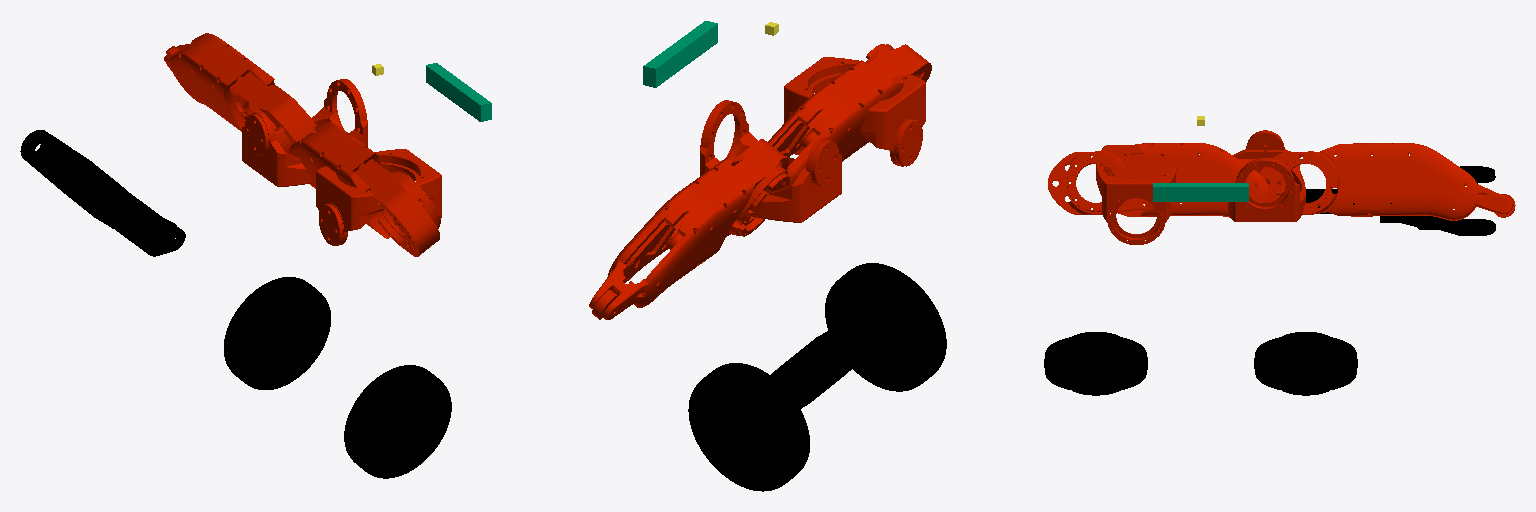
The robot description file, URDF, robot "ambula_bot":
<?xml version="1.0" ?>
<!-- =================================================================================== -->
<!-- |    This document was autogenerated by xacro from ambula.urdf.xacro              | -->
<!-- |    EDITING THIS FILE BY HAND IS NOT RECOMMENDED                                 | -->
<!-- =================================================================================== -->
<robot name="ambula_bot">
  <!-- <link name="world" /> -->
  <link name="base_footprint"/>
  <link name="base_link">
    <visual>
      <origin rpy="-1.5707963267948966 0 0" xyz="0 0 0"/>
      <geometry>
        <mesh filename="package://ambula_description/meshs/base.stl" scale="1 1 1"/>
      </geometry>
      <material name="black">
        <color rgba="0.0 0.0 0.0 1.0"/>
      </material>
    </visual>
    <collision>
      <origin rpy="-1.5707963267948966 0 0" xyz="0 0 0"/>
      <geometry>
        <mesh filename="package://ambula_description/meshs/base.stl" scale="1 1 1"/>
      </geometry>
    </collision>
    <inertial>
      <origin rpy="0 0 0" xyz="0 0 -0.07"/>
      <mass value="7.0"/>
      <inertia ixx="0.08219166666666668" ixy="0.0" ixz="0.0" iyy="0.12559166666666666" iyz="0.0" izz="0.11631666666666665"/>
    </inertial>
  </link>
  <gazebo reference="base_link">
    <visual>
      <material>
        <ambient>0.8392 0.6314 0.0 1.0</ambient>
        <diffuse>0.8392 0.6314 0.0 1.0</diffuse>
        <specular>0.99 0.99 0.99 1.0</specular>
        <emissive>0.0 0.0 0.0 0.0</emissive>
      </material>
    </visual>
  </gazebo>
  <joint name="base_to_footprint" type="fixed">
    <parent link="base_footprint"/>
    <child link="base_link"/>
    <origin rpy="0 0 0" xyz="0 0 0.5"/>
  </joint>
  <link name="left_waist_link">
    <visual>
      <origin rpy="-1.5707963267948966 0 0" xyz="0 0 0"/>
      <geometry>
        <mesh filename="package://ambula_description/meshs/left_waist.stl" scale="1 1 1"/>
      </geometry>
      <material name="orange">
        <color rgba="0.8 0.15 0.0 1.0"/>
      </material>
    </visual>
    <collision>
      <origin rpy="-1.5707963267948966 0 0" xyz="0 0 0"/>
      <geometry>
        <mesh filename="package://ambula_description/meshs/left_waist.stl" scale="1 1 1"/>
      </geometry>
    </collision>
    <inertial>
      <origin rpy="0 0 0" xyz="0 0 0"/>
      <mass value="1.0"/>
      <inertia ixx="0.001666666666666667" ixy="0.0" ixz="0.0" iyy="0.002241666666666667" iyz="0.0" izz="0.002241666666666667"/>
    </inertial>
  </link>
  <joint name="left_waist_joint" type="revolute">
    <axis xyz="1 0 0"/>
    <origin xyz="-0.05 0.0875 -0.1165"/>
    <parent link="base_link"/>
    <child link="left_waist_link"/>
    <limit effort="1000" lower="-0.7853981633974483" upper="0.7853981633974483" velocity="10"/>
    <dynamics damping="5.0" friction="3.0"/>
  </joint>
  <link name="right_waist_link">
    <visual>
      <origin rpy="-1.5707963267948966 0 0" xyz="0 0 0"/>
      <geometry>
        <mesh filename="package://ambula_description/meshs/right_waist.stl" scale="1 1 1"/>
      </geometry>
      <material name="orange">
        <color rgba="0.8 0.15 0.0 1.0"/>
      </material>
    </visual>
    <collision>
      <origin rpy="-1.5707963267948966 0 0" xyz="0 0 0"/>
      <geometry>
        <mesh filename="package://ambula_description/meshs/right_waist.stl" scale="1 1 1"/>
      </geometry>
    </collision>
    <inertial>
      <origin rpy="0 0 0" xyz="0 0 0"/>
      <mass value="1.0"/>
      <inertia ixx="0.001666666666666667" ixy="0.0" ixz="0.0" iyy="0.002241666666666667" iyz="0.0" izz="0.002241666666666667"/>
    </inertial>
  </link>
  <joint name="right_waist_joint" type="revolute">
    <axis xyz="1 0 0"/>
    <origin xyz="-0.05 -0.0875 -0.1165"/>
    <parent link="base_link"/>
    <child link="right_waist_link"/>
    <limit effort="1000" lower="-0.7853981633974483" upper="0.7853981633974483" velocity="10"/>
    <dynamics damping="5.0" friction="3.0"/>
  </joint>
  <link name="left_hip_link">
    <visual>
      <origin rpy="-1.5707963267948966 0 0" xyz="0 0 0"/>
      <geometry>
        <mesh filename="package://ambula_description/meshs/left_hip.stl" scale="1 1 1"/>
      </geometry>
      <material name="orange">
        <color rgba="0.8 0.15 0.0 1.0"/>
      </material>
    </visual>
    <collision>
      <origin rpy="-1.5707963267948966 0 0" xyz="0 0 0"/>
      <geometry>
        <mesh filename="package://ambula_description/meshs/left_hip.stl" scale="1 1 1"/>
      </geometry>
    </collision>
    <inertial>
      <origin rpy="0 0 0" xyz="0 0 0.11560000000000002"/>
      <mass value="1.0"/>
      <inertia ixx="0.009933333333333336" ixy="0.0" ixz="0.0" iyy="0.010466666666666668" iyz="0.0" izz="0.0011333333333333334"/>
    </inertial>
  </link>
  <joint name="left_hip_joint" type="revolute">
    <axis xyz="0 -1 0"/>
    <origin xyz="0.0 0.055 0.0"/>
    <parent link="left_waist_link"/>
    <child link="left_hip_link"/>
    <limit effort="1000" lower="0.9599310885968811" upper="3.141592653589793" velocity="10"/>
    <dynamics damping="5.0" friction="3.0"/>
  </joint>
  <link name="right_hip_link">
    <visual>
      <origin rpy="-1.5707963267948966 0 0" xyz="0 0 0"/>
      <geometry>
        <mesh filename="package://ambula_description/meshs/right_hip.stl" scale="1 1 1"/>
      </geometry>
      <material name="orange">
        <color rgba="0.8 0.15 0.0 1.0"/>
      </material>
    </visual>
    <collision>
      <origin rpy="-1.5707963267948966 0 0" xyz="0 0 0"/>
      <geometry>
        <mesh filename="package://ambula_description/meshs/right_hip.stl" scale="1 1 1"/>
      </geometry>
    </collision>
    <inertial>
      <origin rpy="0 0 0" xyz="0 0 0.11560000000000002"/>
      <mass value="1.0"/>
      <inertia ixx="0.009933333333333336" ixy="0.0" ixz="0.0" iyy="0.010466666666666668" iyz="0.0" izz="0.0011333333333333334"/>
    </inertial>
  </link>
  <joint name="right_hip_joint" type="revolute">
    <axis xyz="0 -1 0"/>
    <origin xyz="0.0 -0.055 0.0"/>
    <parent link="right_waist_link"/>
    <child link="right_hip_link"/>
    <limit effort="1000" lower="0.9599310885968811" upper="3.141592653589793" velocity="10"/>
    <dynamics damping="5.0" friction="3.0"/>
  </joint>
  <link name="left_knee_link">
    <visual>
      <origin rpy="-1.5707963267948966 0 0" xyz="0 0 0"/>
      <geometry>
        <mesh filename="package://ambula_description/meshs/left_knee.stl" scale="1 1 1"/>
      </geometry>
      <material name="black">
        <color rgba="0.0 0.0 0.0 1.0"/>
      </material>
    </visual>
    <collision>
      <origin rpy="-1.5707963267948966 0 0" xyz="0 0 0"/>
      <geometry>
        <mesh filename="package://ambula_description/meshs/left_knee.stl" scale="1 1 1"/>
      </geometry>
    </collision>
    <inertial>
      <origin rpy="0 0 0" xyz="0 0 0.10640000000000001"/>
      <mass value="0.5"/>
      <inertia ixx="0.0035333333333333336" ixy="0.0" ixz="0.0" iyy="0.0033708333333333338" iyz="0.0" izz="0.00037083333333333337"/>
    </inertial>
  </link>
  <joint name="left_knee_joint" type="revolute">
    <axis xyz="0 -1 0"/>
    <origin xyz="-0.015 0.0 0.201"/>
    <parent link="left_hip_link"/>
    <child link="left_knee_link"/>
    <limit effort="1000" lower="1.2217304763960306" upper="2.530727415391778" velocity="10"/>
    <dynamics damping="5.0" friction="3.0"/>
  </joint>
  <link name="right_knee_link">
    <visual>
      <origin rpy="-1.5707963267948966 0 0" xyz="0 0 0"/>
      <geometry>
        <mesh filename="package://ambula_description/meshs/right_knee.stl" scale="1 1 1"/>
      </geometry>
      <material name="black">
        <color rgba="0.0 0.0 0.0 1.0"/>
      </material>
    </visual>
    <collision>
      <origin rpy="-1.5707963267948966 0 0" xyz="0 0 0"/>
      <geometry>
        <mesh filename="package://ambula_description/meshs/right_knee.stl" scale="1 1 1"/>
      </geometry>
    </collision>
    <inertial>
      <origin rpy="0 0 0" xyz="0 0 0.10640000000000001"/>
      <mass value="0.5"/>
      <inertia ixx="0.0035333333333333336" ixy="0.0" ixz="0.0" iyy="0.0033708333333333338" iyz="0.0" izz="0.00037083333333333337"/>
    </inertial>
  </link>
  <joint name="right_knee_joint" type="revolute">
    <axis xyz="0 -1 0"/>
    <origin xyz="-0.015 0.0 0.201"/>
    <parent link="right_hip_link"/>
    <child link="right_knee_link"/>
    <limit effort="1000" lower="1.2217304763960306" upper="2.530727415391778" velocity="10"/>
    <dynamics damping="5.0" friction="3.0"/>
  </joint>
  <link name="left_wheel_link">
    <visual>
      <origin rpy="-1.5707963267948966 0 0" xyz="0 0 0"/>
      <geometry>
        <mesh filename="package://ambula_description/meshs/wheel.stl" scale="1 1 1"/>
      </geometry>
      <material name="black">
        <color rgba="0.0 0.0 0.0 1.0"/>
      </material>
    </visual>
    <collision>
      <origin rpy="-1.5707963267948966 0 0" xyz="0 0 0"/>
      <geometry>
        <mesh filename="package://ambula_description/meshs/wheel.stl" scale="1 1 1"/>
      </geometry>
    </collision>
    <inertial>
      <origin rpy="0 0 0" xyz="0 0 0"/>
      <mass value="1.6"/>
      <inertia ixx="0.002293333333333334" ixy="0" ixz="0" iyy="0.003920000000000001" iyz="0" izz="0.002293333333333334"/>
    </inertial>
  </link>
  <joint name="left_wheel_joint" type="continuous">
    <axis xyz="0 1 0"/>
    <parent link="left_knee_link"/>
    <child link="left_wheel_link"/>
    <origin rpy="0 0 0" xyz="0.0 0.0 0.235"/>
    <dynamics damping="0.01" friction="0.0"/>
  </joint>
  <link name="right_wheel_link">
    <visual>
      <origin rpy="-1.5707963267948966 0 0" xyz="0 0 0"/>
      <geometry>
        <mesh filename="package://ambula_description/meshs/wheel.stl" scale="1 1 1"/>
      </geometry>
      <material name="black">
        <color rgba="0.0 0.0 0.0 1.0"/>
      </material>
    </visual>
    <collision>
      <origin rpy="-1.5707963267948966 0 0" xyz="0 0 0"/>
      <geometry>
        <mesh filename="package://ambula_description/meshs/wheel.stl" scale="1 1 1"/>
      </geometry>
    </collision>
    <inertial>
      <origin rpy="0 0 0" xyz="0 0 0"/>
      <mass value="1.6"/>
      <inertia ixx="0.002293333333333334" ixy="0" ixz="0" iyy="0.003920000000000001" iyz="0" izz="0.002293333333333334"/>
    </inertial>
  </link>
  <joint name="right_wheel_joint" type="continuous">
    <axis xyz="0 1 0"/>
    <parent link="right_knee_link"/>
    <child link="right_wheel_link"/>
    <origin rpy="0 0 0" xyz="0.0 0.0 0.235"/>
    <dynamics damping="0.01" friction="0.0"/>
  </joint>
  <link name="camera_link">
    <visual>
      <origin rpy="0 0 0" xyz="0 0 0"/>
      <geometry>
        <box size="0.015 0.130 0.022"/>
      </geometry>
    </visual>
    <collision>
      <origin rpy="0 0 0" xyz="0 0 0"/>
      <geometry>
        <box size="0.015 0.130 0.022"/>
      </geometry>
    </collision>
    <inertial>
      <origin rpy="0 0 0" xyz="0 0 0"/>
      <mass value="0.035"/>
      <inertia ixx="0.001" ixy="0" ixz="0" iyy="0.001" iyz="0" izz="0.001"/>
    </inertial>
  </link>
  <joint name="camera_to_base_link" type="fixed">
    <parent link="base_link"/>
    <child link="camera_link"/>
    <origin rpy="0 0 0" xyz="0.11 0 -0.055"/>
  </joint>
  <gazebo reference="camera_link">
    <sensor name="depth_camera" type="rgbd_camera">
      <always_on>true</always_on>
      <visualize>true</visualize>
      <update_rate>15</update_rate>
      <topic>depth_camera</topic>
      <gz_frame_id>camera_link</gz_frame_id>
      <camera>
        <horizontal_fov>1.047198</horizontal_fov>
        <image>
          <width>640</width>
          <height>480</height>
        </image>
        <clip>
          <near>0.05</near>
          <far>3.0</far>
        </clip>
        <distortion>
          <!-- Brown–Conrady -->
          <k1>0.0</k1>
          <k2>0.0</k2>
          <k3>0.0</k3>
          <p1>0.0</p1>
          <p2>0.0</p2>
          <center>0.5 0.5</center>
          <!-- principal point (normalized) -->
        </distortion>
      </camera>
    </sensor>
  </gazebo>
  <link name="imu_base_link">
    <visual>
      <origin rpy="0 0 0" xyz="0 0 0"/>
      <geometry>
        <box size="0.01 0.01 0.01"/>
      </geometry>
    </visual>
    <collision>
      <origin rpy="0 0 0" xyz="0 0 0"/>
      <geometry>
        <box size="0.01 0.01 0.01"/>
      </geometry>
    </collision>
    <inertial>
      <origin rpy="0 0 0" xyz="0 0 0"/>
      <mass value="0.035"/>
      <inertia ixx="0.001" ixy="0" ixz="0" iyy="0.001" iyz="0" izz="0.001"/>
    </inertial>
  </link>
  <joint name="imu_to_base" type="fixed">
    <parent link="base_link"/>
    <child link="imu_base_link"/>
    <origin rpy="0 0 0" xyz="0 0 0"/>
  </joint>
  <gazebo reference="imu_base_link">
    <sensor name="imu_sensor" type="imu">
      <pose relative_to="base_link">0 0 0 0 0 0</pose>
      <always_on>1</always_on>
      <update_rate>1000.0</update_rate>
      <topic>imu</topic>
      <gz_frame_id>imu_base_link</gz_frame_id>
    </sensor>
    <sensor name="navsat" type="navsat">
      <always_on>1</always_on>
      <update_rate>1</update_rate>
      <topic>navsat</topic>
      <gz_frame_id>imu_base_link</gz_frame_id>
    </sensor>
  </gazebo>
  <link name="imu_cam_link">
    <visual>
      <origin rpy="0 0 0" xyz="0 0 0"/>
      <geometry>
        <box size="0.01 0.01 0.01"/>
      </geometry>
    </visual>
    <collision>
      <origin rpy="0 0 0" xyz="0 0 0"/>
      <geometry>
        <box size="0.01 0.01 0.01"/>
      </geometry>
    </collision>
    <inertial>
      <origin rpy="0 0 0" xyz="0 0 0"/>
      <mass value="0.035"/>
      <inertia ixx="0.001" ixy="0" ixz="0" iyy="0.001" iyz="0" izz="0.001"/>
    </inertial>
  </link>
  <joint name="imu_to_camera" type="fixed">
    <parent link="camera_link"/>
    <child link="imu_cam_link"/>
    <origin rpy="0 0 0" xyz="0 0 0"/>
  </joint>
  <gazebo reference="imu_cam_link">
    <sensor name="imu_sensor" type="imu">
      <pose relative_to="base_link">0 0 0 0 0 0</pose>
      <always_on>1</always_on>
      <update_rate>1000.0</update_rate>
      <topic>imu</topic>
      <gz_frame_id>imu_cam_link</gz_frame_id>
    </sensor>
    <sensor name="navsat" type="navsat">
      <always_on>1</always_on>
      <update_rate>1</update_rate>
      <topic>navsat</topic>
      <gz_frame_id>imu_cam_link</gz_frame_id>
    </sensor>
  </gazebo>
  <!-- <xacro:ambula_ros2_control/> -->
</robot>

--- Facts derived from the render (not from the file) ---
Views: 3 orthographic renders of the robot side by side, from view 1: azimuth 30°, elevation 25°; view 2: azimuth 150°, elevation 25°; view 3: azimuth 270°, elevation 25°.
Model ambula_bot with 13 links and 12 joints (6 revolute, 2 continuous, 4 fixed), rooted at base_footprint, posed all joints at 0 but 4 set to mid-range because 0 is outside their limits (left_hip_joint = 2.05, right_hip_joint = 2.05, left_knee_joint = 1.88, right_knee_joint = 1.88).
Links seen in each view (by area): view 1: right_wheel_link, left_wheel_link, left_hip_link, right_hip_link, left_knee_link, right_waist_link, left_waist_link, camera_link; view 2: left_hip_link, left_knee_link, left_wheel_link, right_hip_link, right_wheel_link, left_waist_link, right_waist_link, camera_link; view 3: left_hip_link, right_hip_link, right_wheel_link, left_wheel_link, left_waist_link, right_waist_link, left_knee_link, camera_link.
Link boxes in pixels (bbox=[...]): right_wheel_link: bbox=[344, 365, 451, 478]; left_wheel_link: bbox=[224, 277, 330, 389]; left_hip_link: bbox=[164, 33, 316, 153]; right_hip_link: bbox=[290, 122, 440, 256]; left_knee_link: bbox=[20, 130, 185, 256]; right_waist_link: bbox=[316, 149, 441, 245]; left_waist_link: bbox=[242, 79, 367, 186]; camera_link: bbox=[426, 63, 491, 121]; left_hip_link: bbox=[589, 139, 789, 319]; left_knee_link: bbox=[733, 285, 908, 436]; left_wheel_link: bbox=[688, 363, 809, 491]; right_hip_link: bbox=[768, 44, 931, 184]; right_wheel_link: bbox=[825, 263, 946, 391]; left_waist_link: bbox=[700, 100, 841, 222]; right_waist_link: bbox=[784, 57, 925, 166]; camera_link: bbox=[643, 21, 717, 87]; left_hip_link: bbox=[1260, 143, 1515, 220]; right_hip_link: bbox=[1048, 143, 1282, 217]; right_wheel_link: bbox=[1044, 332, 1147, 395]; left_wheel_link: bbox=[1254, 332, 1357, 395]; left_waist_link: bbox=[1228, 130, 1305, 221]; right_waist_link: bbox=[1096, 145, 1176, 244]; left_knee_link: bbox=[1306, 166, 1495, 235]; camera_link: bbox=[1153, 183, 1248, 201].
Size in the robot's own frame: 0.3834 by 0.6395 by 0.4533 metres.
Meshes: 8 distinct files referenced, 7 mesh visuals loaded (6 binary STL); not drawn: 2 (reference not matched to a file when rendering).
